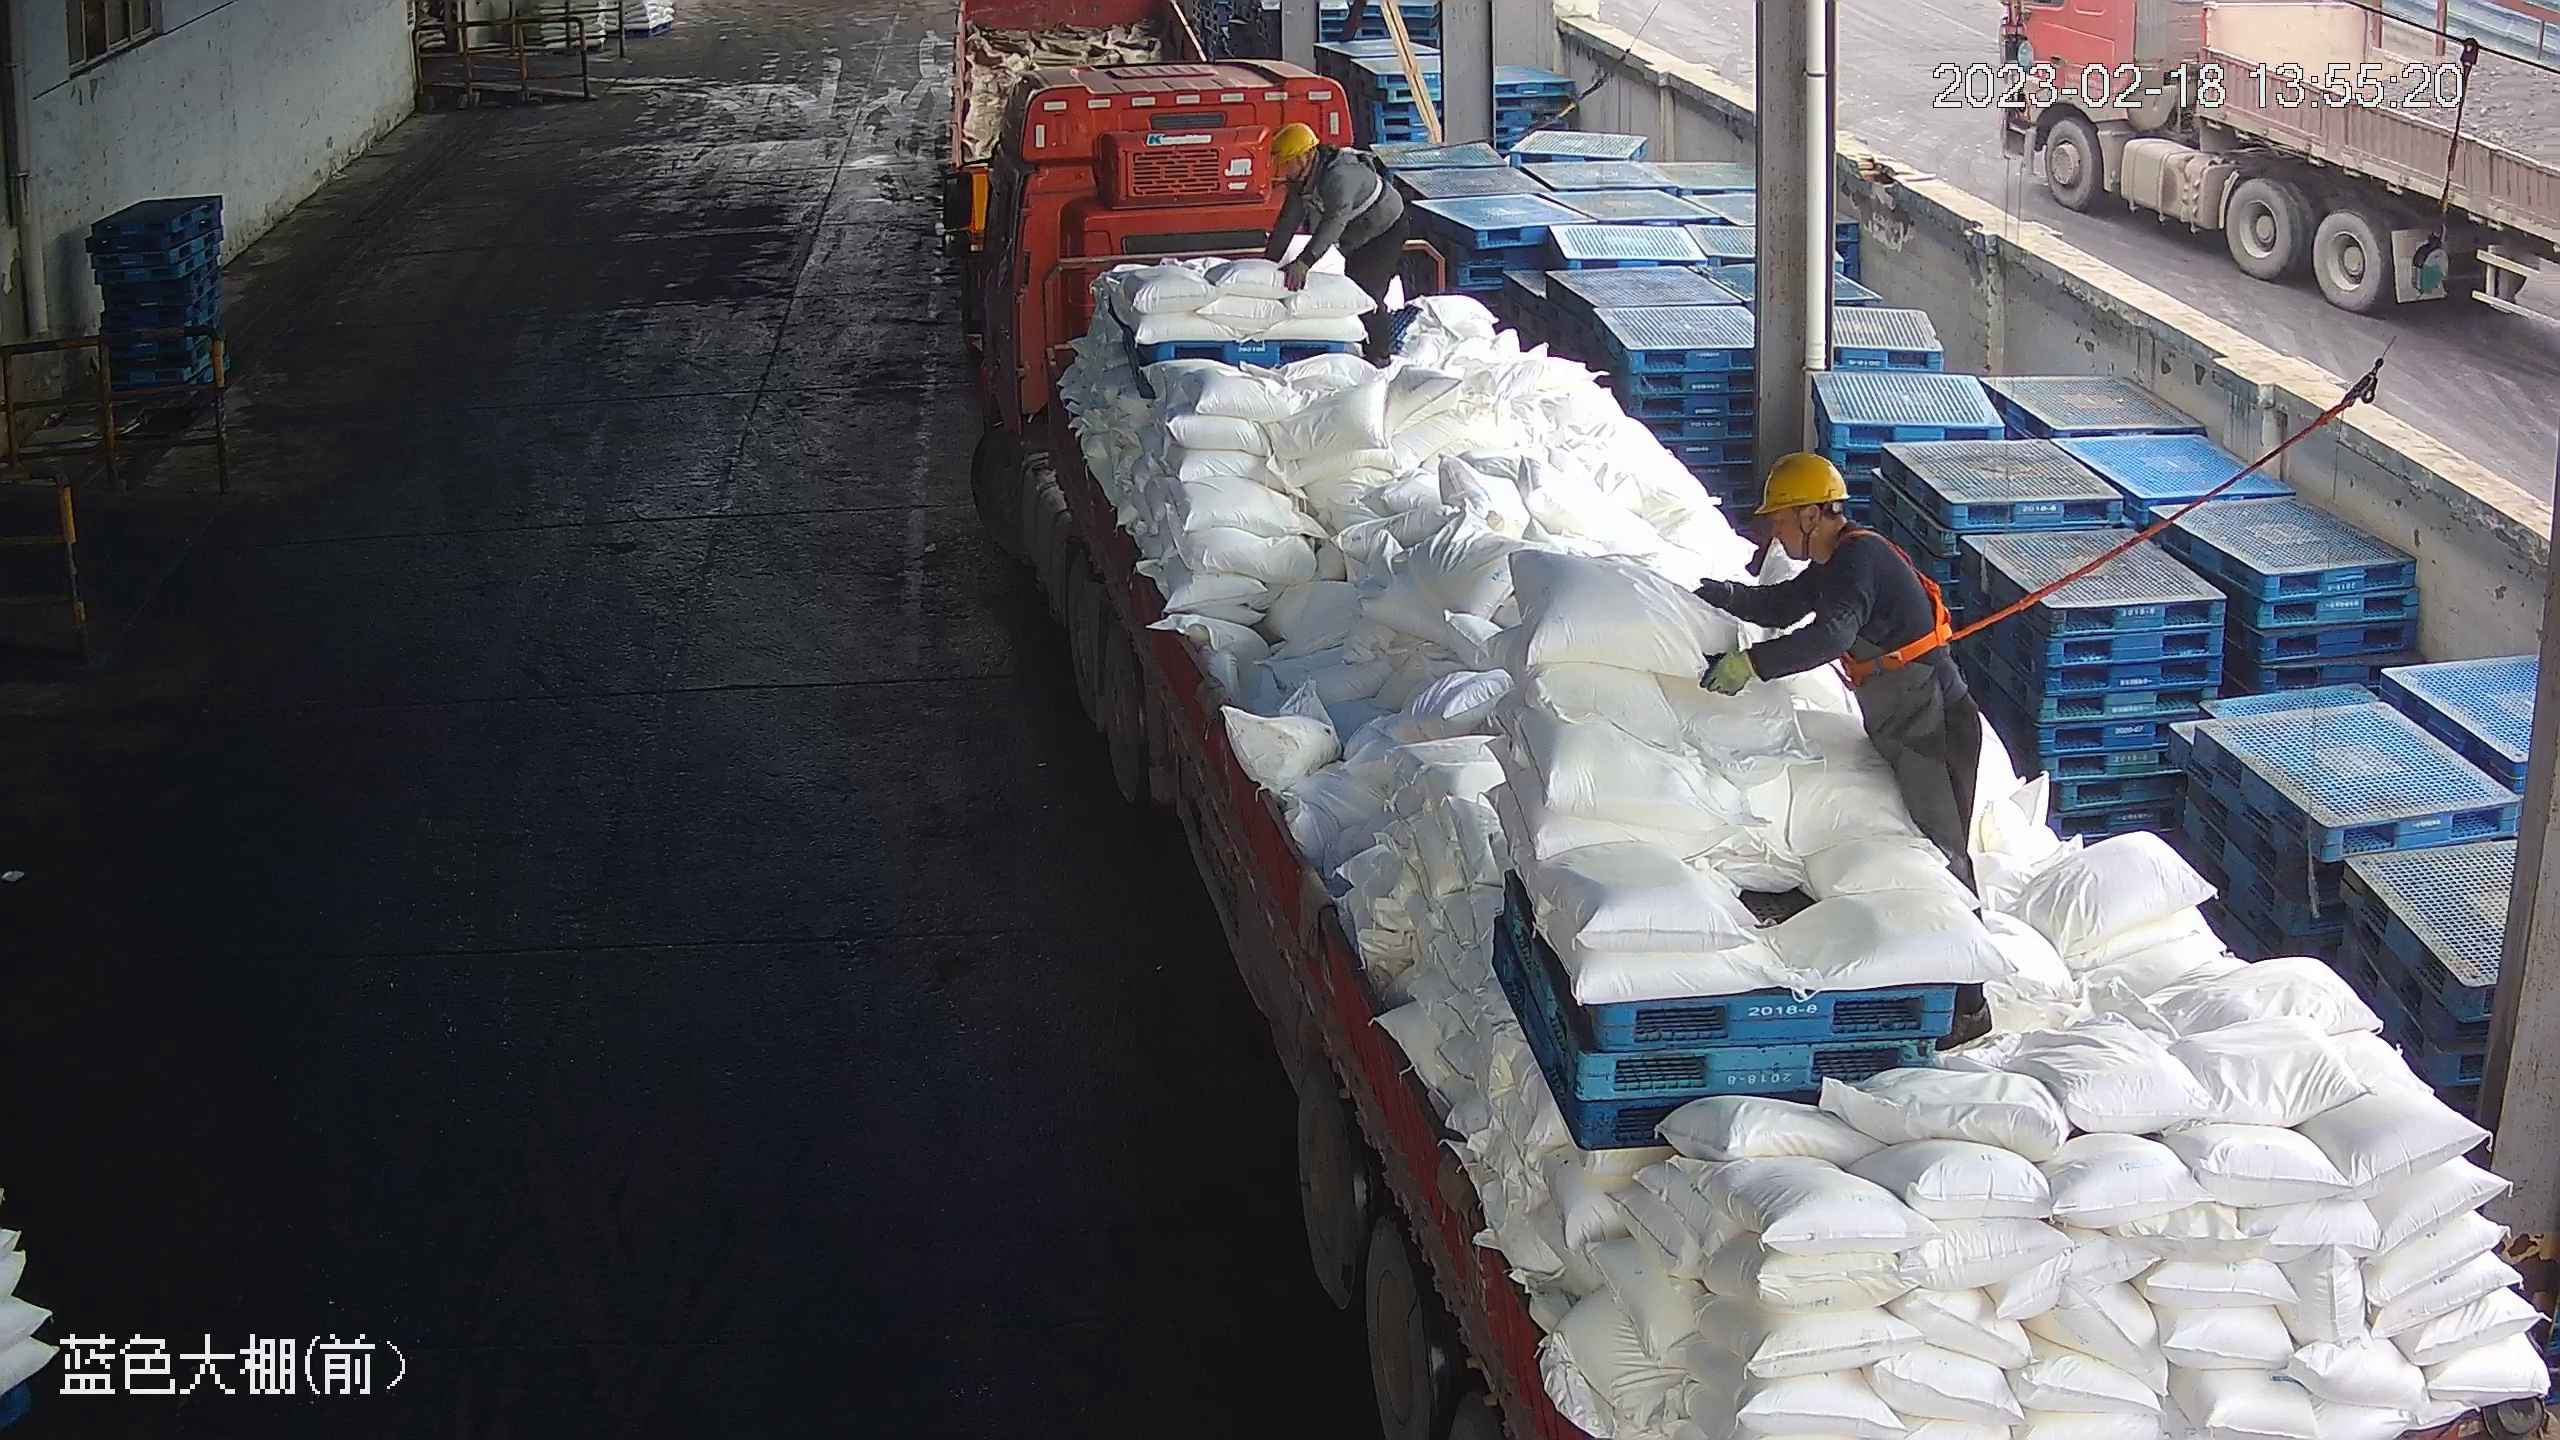belt: (1826, 521, 1983, 674), (1311, 145, 1398, 226)
head: (1751, 447, 1929, 598), (1268, 120, 1369, 203)
helmet: (1753, 448, 1852, 514), (1268, 121, 1321, 166)
people: (1686, 447, 1994, 902), (1266, 117, 1417, 370)
truck: (935, 52, 2560, 1440)
